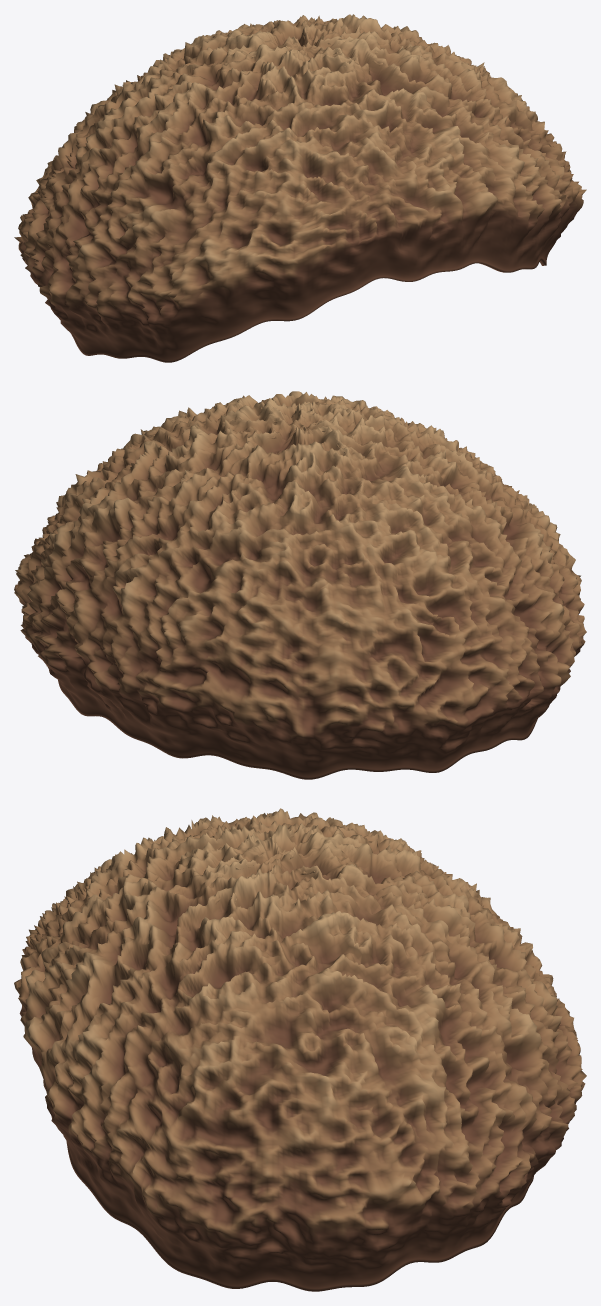
The model's file is Ombre-7b2dde444bbf253-hair.glb.
3 views of the same model, one above another, from view 1: azimuth 30°, elevation 25°; view 2: azimuth 150°, elevation 25°; view 3: azimuth 270°, elevation 25° (orthographic). The views are drawn at different scales.
Parts seen in each view (by area): view 1: 226 hair / Hair252 / dense natural coil groups; view 2: 226 hair / Hair252 / dense natural coil groups; view 3: 226 hair / Hair252 / dense natural coil groups.
Part boxes in pixels (x1=…): 226 hair / Hair252 / dense natural coil groups: x1=14, y1=14, x2=586, y2=362; 226 hair / Hair252 / dense natural coil groups: x1=14, y1=391, x2=586, y2=779; 226 hair / Hair252 / dense natural coil groups: x1=14, y1=808, x2=586, y2=1291.
Size of the model in its own units: 1.12 by 0.548 by 0.8871.
Materials: 1 (1 with a texture image).
